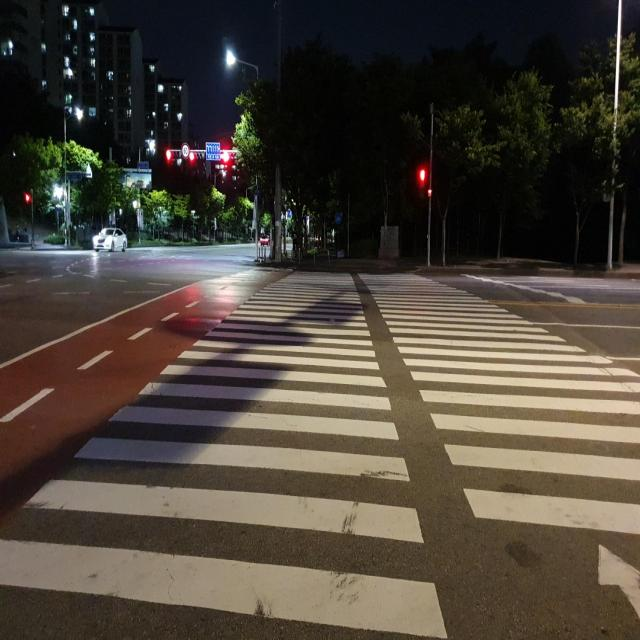빨간불: (418, 167, 428, 197)
횡단보도: (0, 268, 640, 640)
